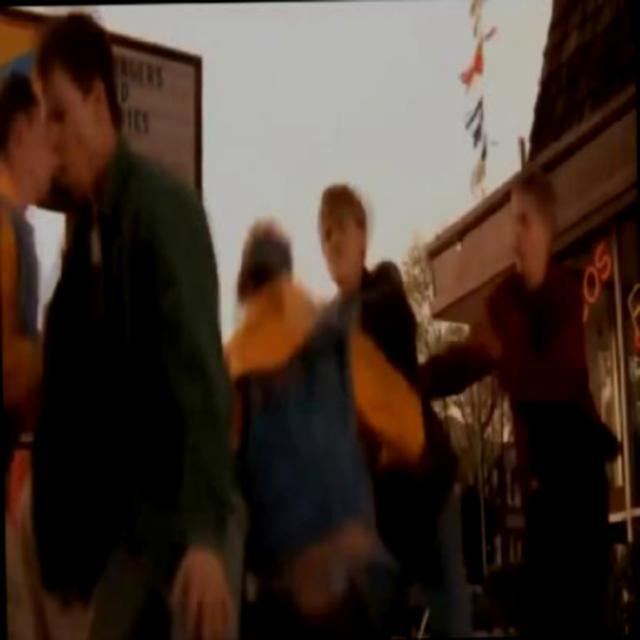fight: (229, 163, 457, 639)
